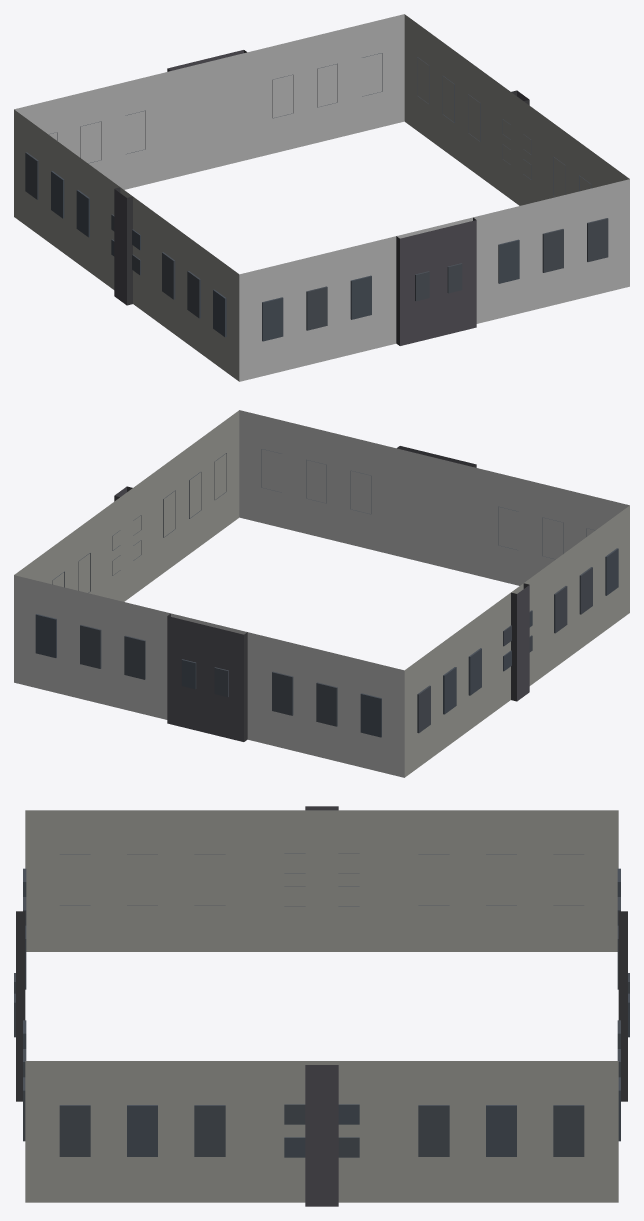
The model's file is TB_CITY_Skysc_Q_LowerBodyB_Gray.FBX.
3 renders of one model, top to bottom at view 1: azimuth 30°, elevation 25°; view 2: azimuth 150°, elevation 25°; view 3: azimuth 270°, elevation 25°, orthographic. The views are drawn at different scales.
Parts seen in each view (by area): view 1: TB_CITY_Skysc_Q_LowerBodyB_Gray; view 2: TB_CITY_Skysc_Q_LowerBodyB_Gray; view 3: TB_CITY_Skysc_Q_LowerBodyB_Gray.
Part boxes in pixels (x1,y1,x2,y2): TB_CITY_Skysc_Q_LowerBodyB_Gray: [14, 14, 629, 381]; TB_CITY_Skysc_Q_LowerBodyB_Gray: [14, 410, 629, 777]; TB_CITY_Skysc_Q_LowerBodyB_Gray: [14, 806, 629, 1206].
Bounding box in the file's own units: 19.6 × 5 × 19.73.
